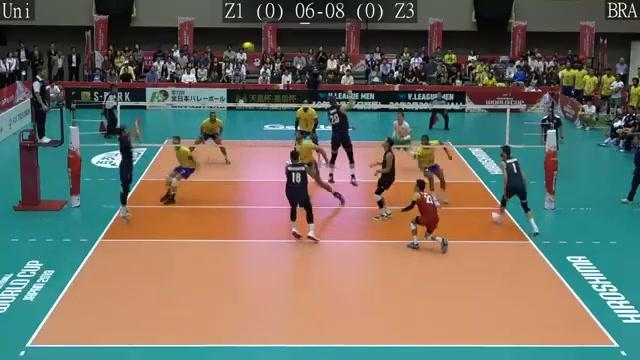ball: (242, 41, 256, 52)
